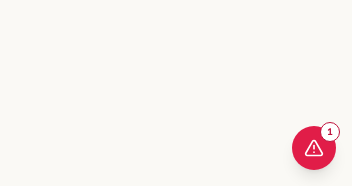
it: reading the list › says an alert covers every dialect when it names none
This screenshot has width=352, height=186.
Click the button titled "Feature alerts".
click(314, 148)  # box [292,126,336,170]
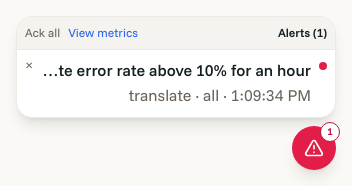
expect the text "translate · all · 1:09:34 PM" is shown: met, box [129,85,311,105]
